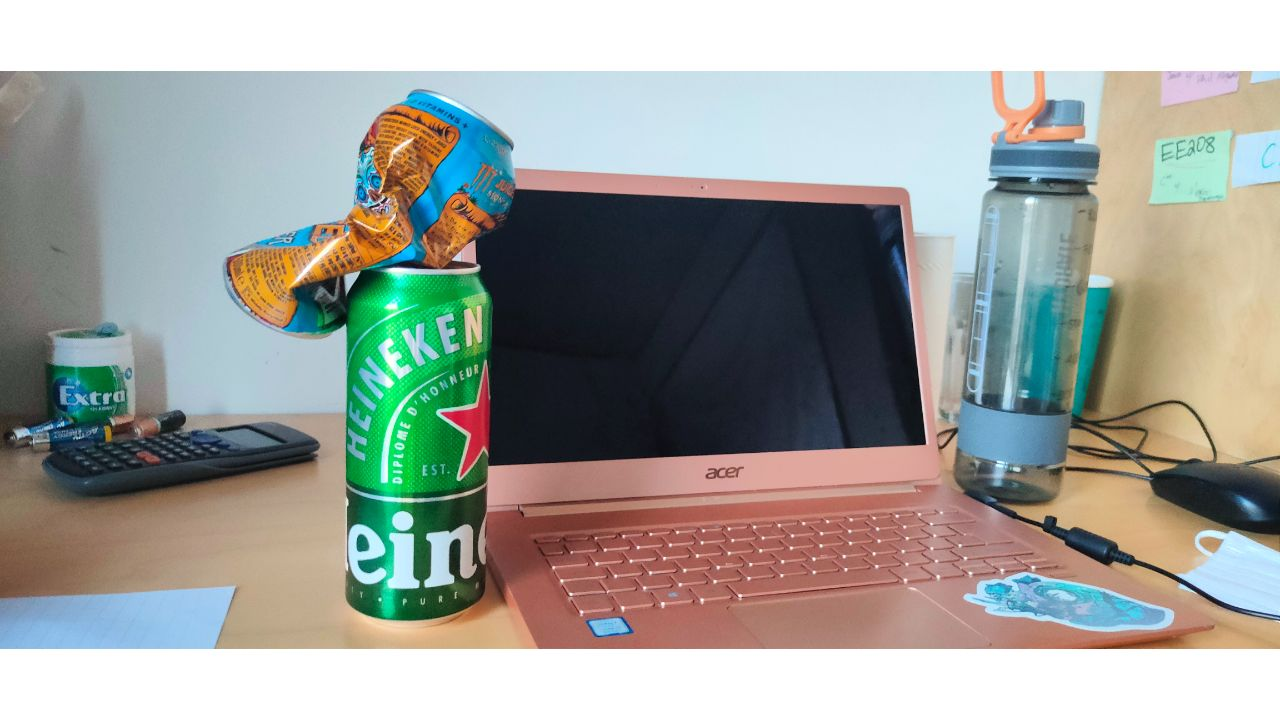Can: (218, 89, 515, 339), (345, 260, 489, 626)
